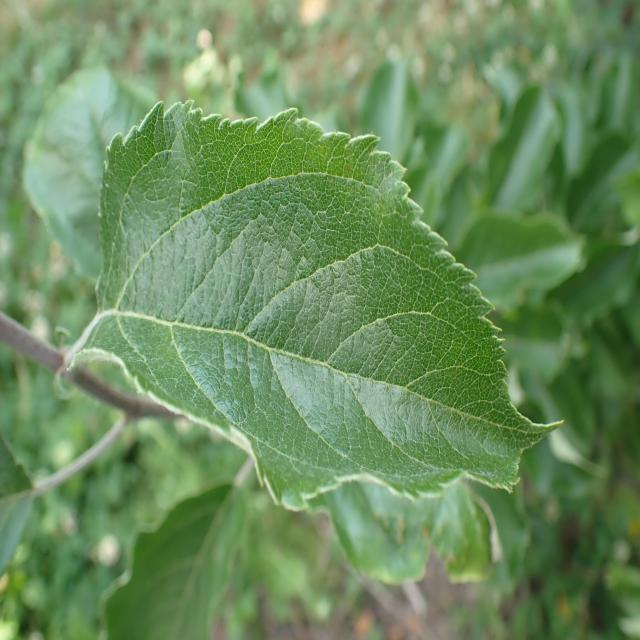healthy: (65, 100, 567, 512)
